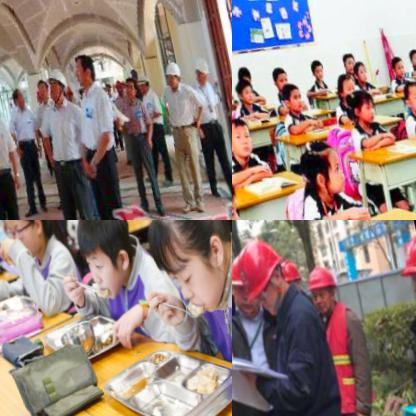head: (141, 220, 232, 323), (66, 220, 144, 305), (295, 131, 349, 198), (0, 220, 51, 259), (343, 83, 376, 125), (232, 113, 256, 164), (276, 79, 303, 114), (331, 68, 356, 103), (398, 73, 416, 112), (232, 75, 253, 104), (232, 61, 254, 87), (304, 55, 325, 80), (269, 64, 288, 91), (349, 56, 368, 82), (339, 46, 356, 75), (388, 51, 405, 79), (404, 43, 416, 67)
helmet: (232, 233, 292, 318), (304, 259, 342, 314), (232, 250, 262, 318), (391, 228, 416, 308), (41, 66, 73, 106), (277, 253, 304, 294), (161, 58, 186, 90), (190, 54, 213, 88), (32, 74, 54, 104), (134, 69, 154, 96)
